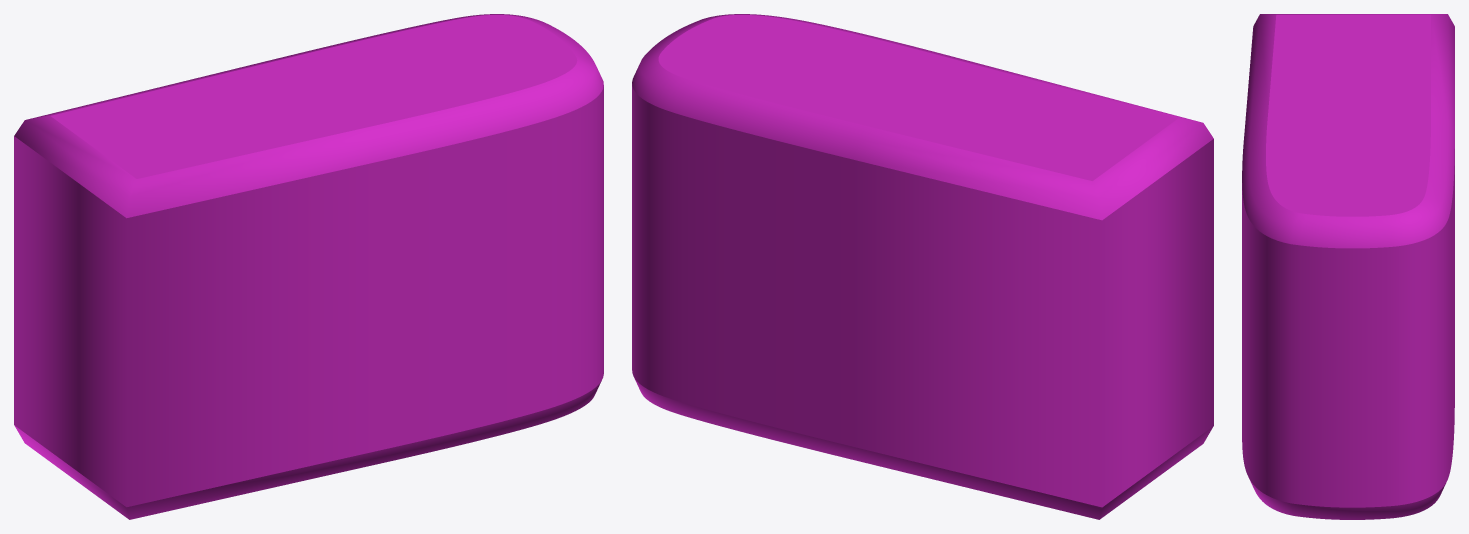
The model's file is Blocky_MinusSign.fbx.
3 renders of one model, left to right at view 1: azimuth 30°, elevation 25°; view 2: azimuth 150°, elevation 25°; view 3: azimuth 270°, elevation 25°, orthographic. The views are drawn at different scales.
Visible parts, largest first — view 1: BlockyMinusSign; view 2: BlockyMinusSign; view 3: BlockyMinusSign.
Part boxes in pixels (x1,y1,x2,y2): BlockyMinusSign: (14, 14, 603, 519); BlockyMinusSign: (632, 14, 1213, 519); BlockyMinusSign: (1242, 14, 1454, 519).
Bounding box in the file's own units: 0.2206 × 0.14 × 0.0893.
